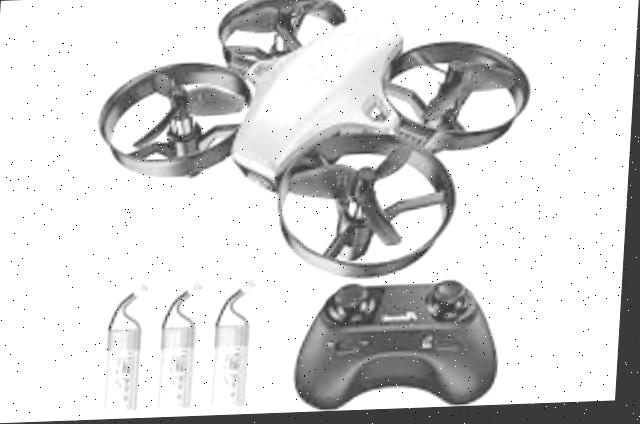drone: (55, 0, 567, 293)
